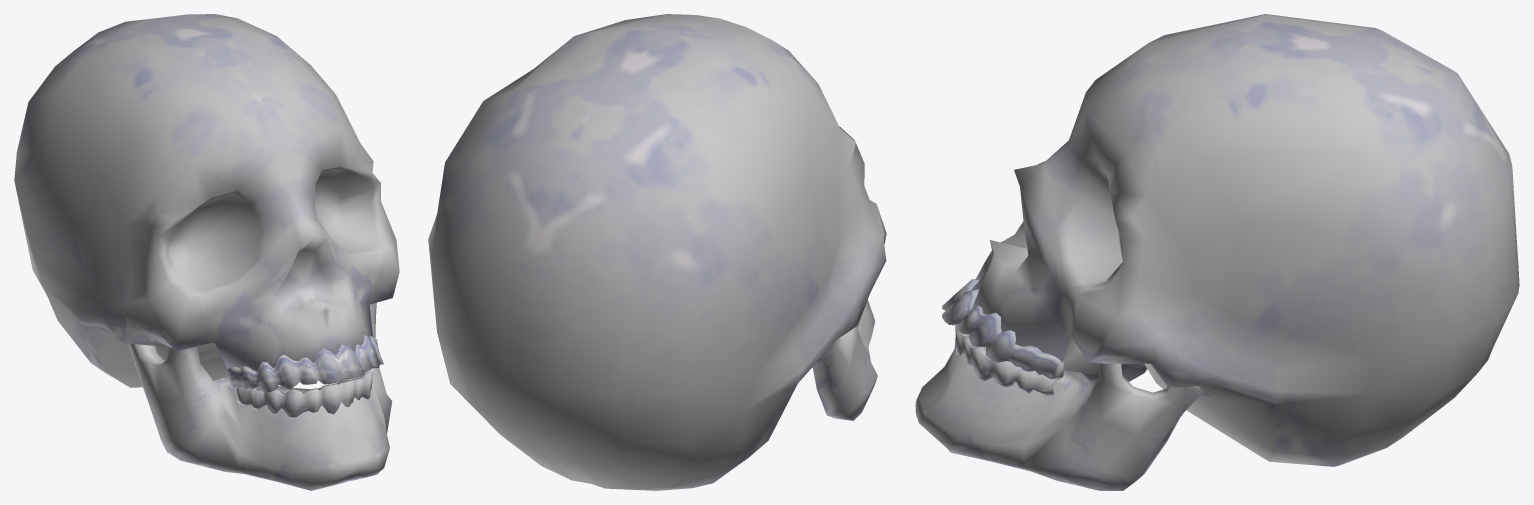
The model's file is Skull.fbx.
3 renders of one model, left to right at view 1: azimuth 30°, elevation 25°; view 2: azimuth 150°, elevation 25°; view 3: azimuth 270°, elevation 25°, orthographic. The views are drawn at different scales.
Visible parts, largest first — view 1: Skull; view 2: Skull; view 3: Skull.
Boxes of the visible parts, <box> form: Skull: <box>14,14,399,490</box>; Skull: <box>428,14,886,490</box>; Skull: <box>915,14,1519,490</box>.
Size of the model in its own units: 15.25 by 19.46 by 26.11.
